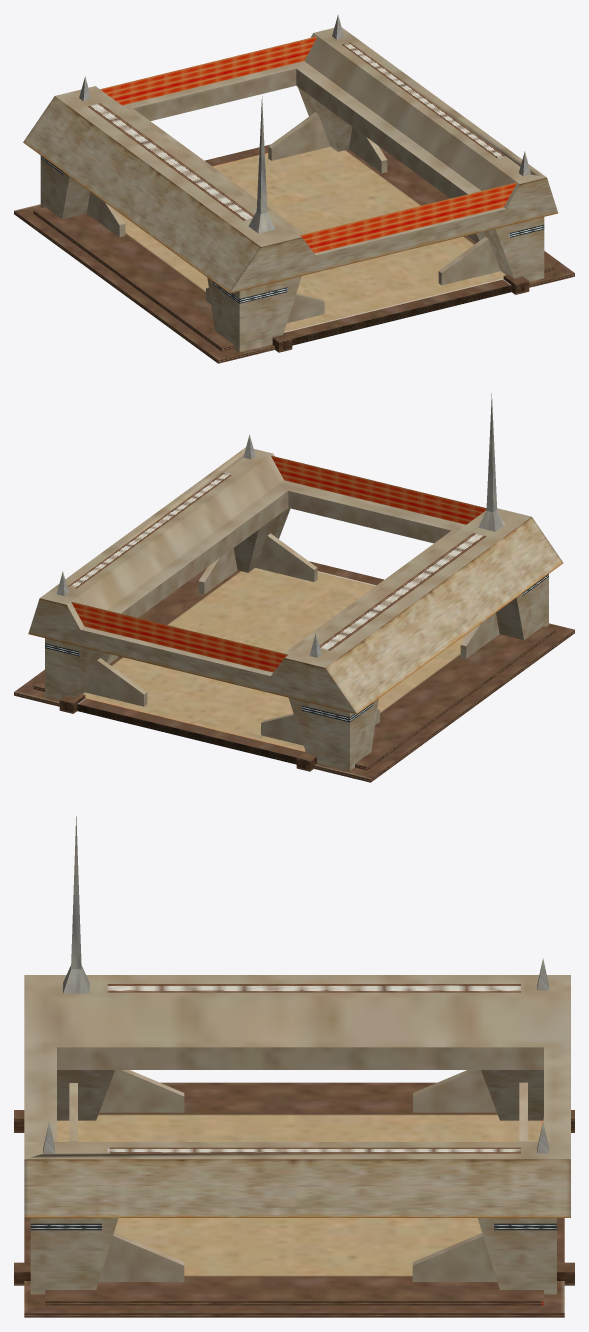
File: mun_tato_shuttleport_s01_l3.fbx
3 renders of one model, top to bottom at view 1: azimuth 30°, elevation 25°; view 2: azimuth 150°, elevation 25°; view 3: azimuth 270°, elevation 25°, orthographic. The views are drawn at different scales.
Parts seen in each view (by area): view 1: mesh_node; view 2: mesh_node; view 3: mesh_node.
Boxes of the visible parts, left/top/right/bottom form: mesh_node: left=14, top=14, right=574, bottom=363; mesh_node: left=14, top=393, right=574, bottom=782; mesh_node: left=14, top=816, right=574, bottom=1317.
Size of the model in its own units: 31.47 by 20.21 by 32.4.
